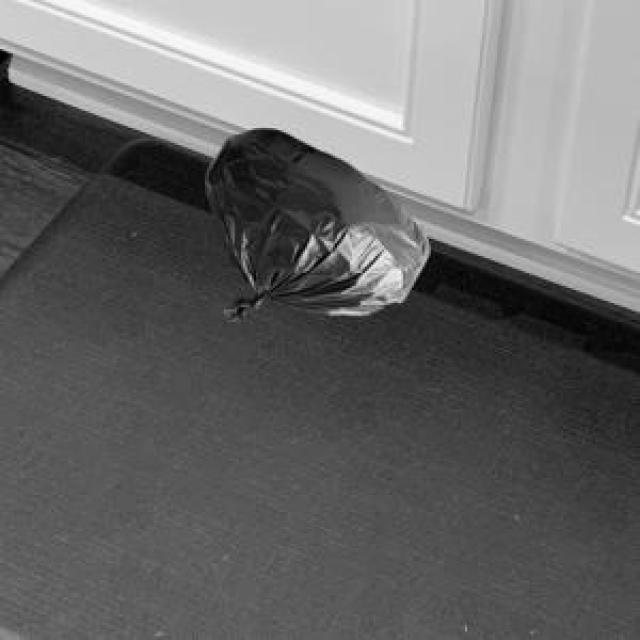miscellaneous trash: (203, 124, 425, 316)
